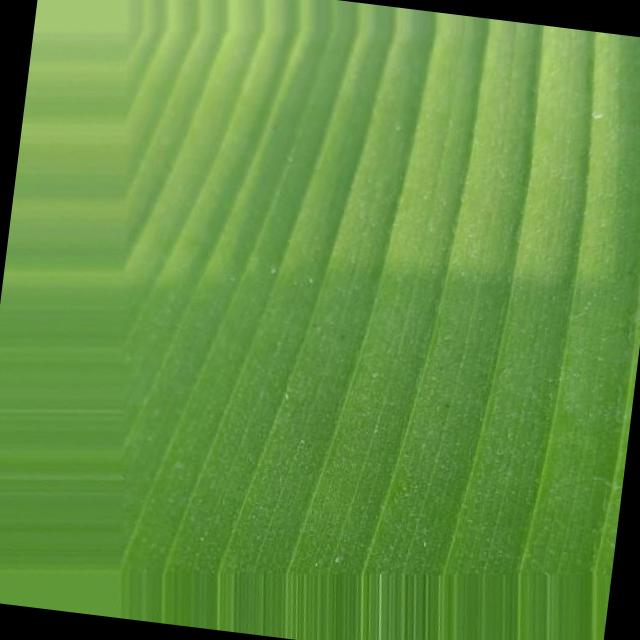Banana_Healthy: (155, 34, 612, 508)
